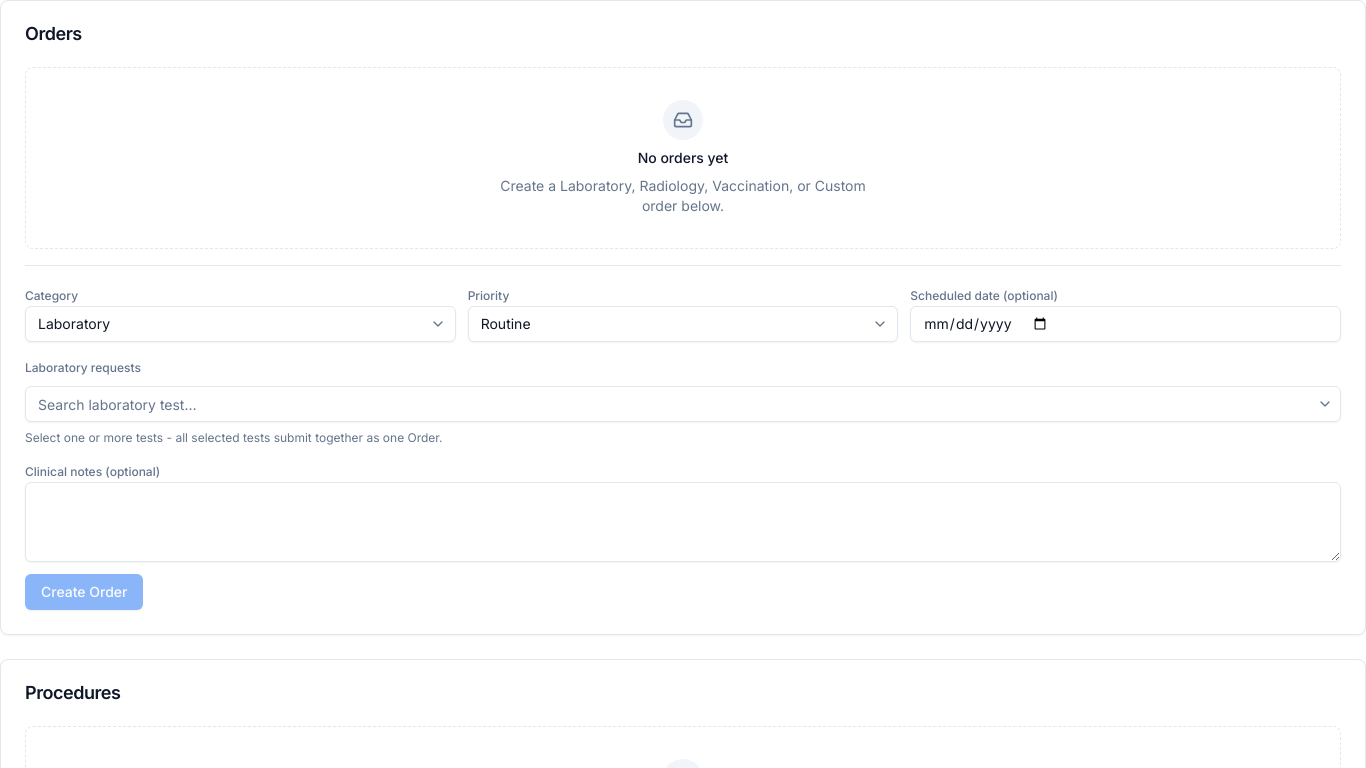
ClinicalOrdersTab - Laboratory Requests searchable multi-select (Task #3) › 3: doctor can select one lab item, which appears in the selected list
Step 1. Click the field with placeholder "Search laboratory test…" → click(683, 404), box [25, 386, 1341, 422]
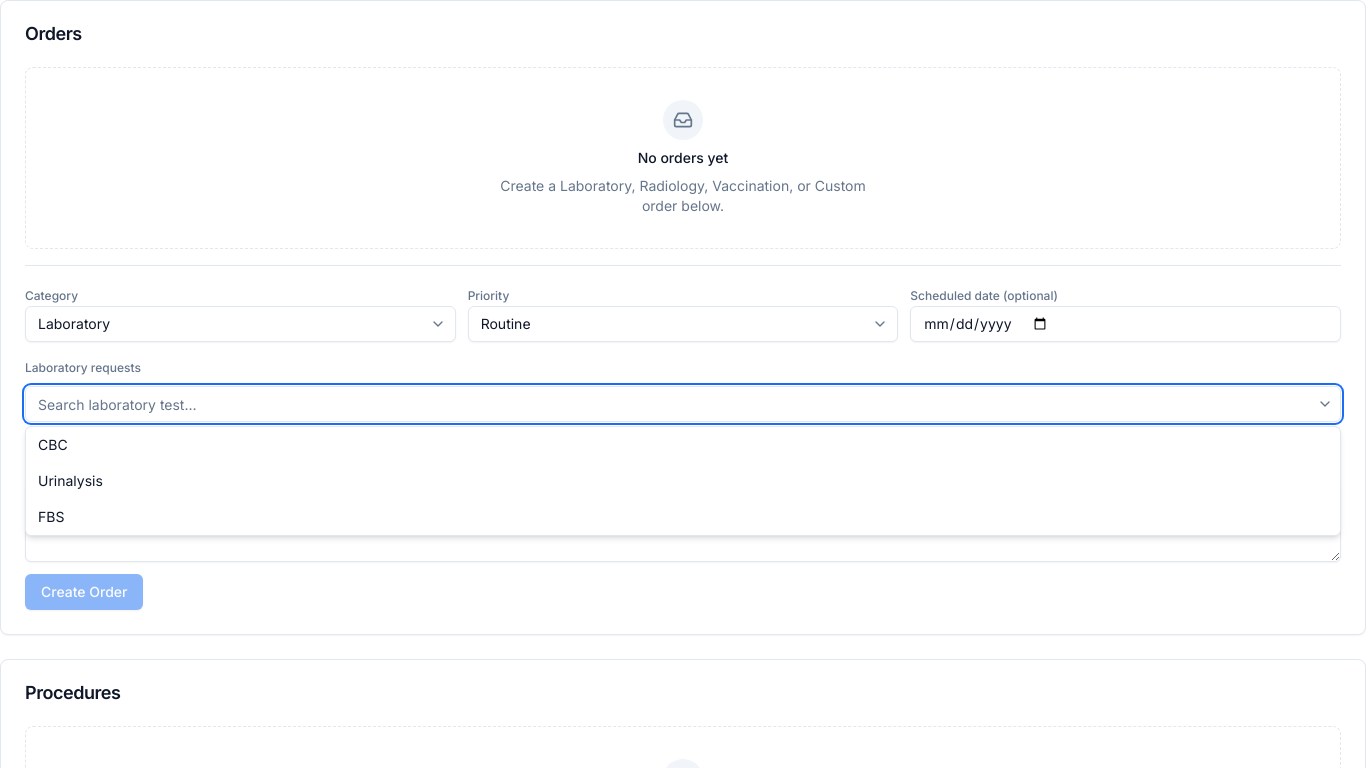
Step 2. Click the button "CBC" → click(53, 444), box [26, 427, 1340, 463]
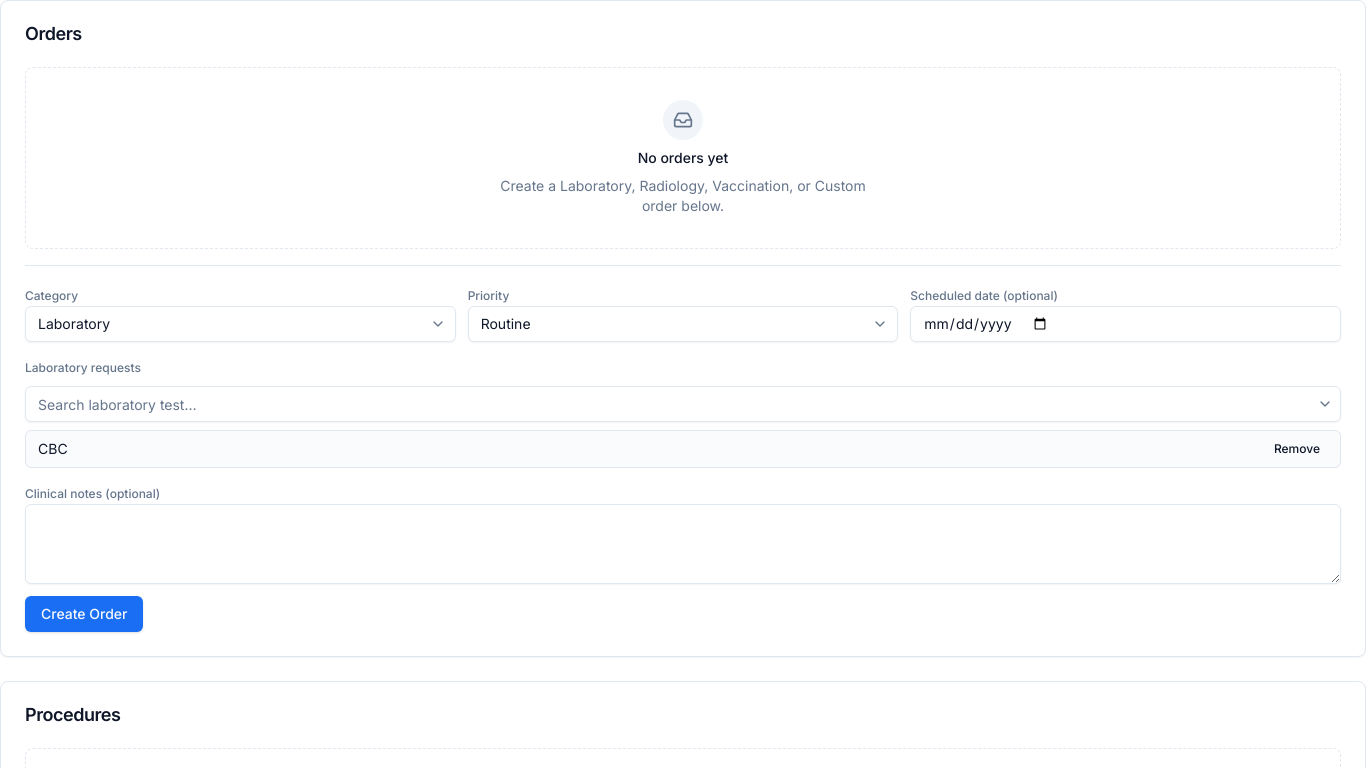
Expected: the text "CBC" is shown, [38, 439, 68, 459]
Expected: the button "Remove" is shown, [1266, 437, 1328, 461]
